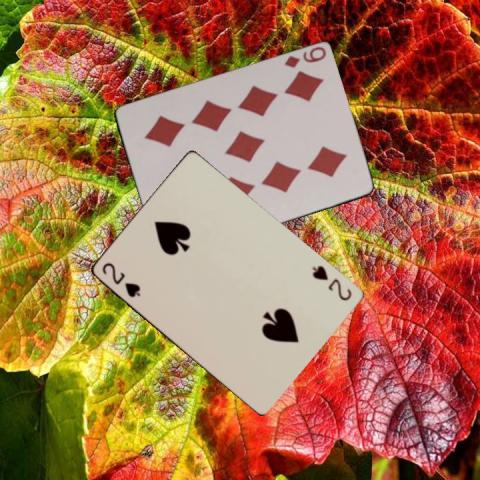2s: (309, 262, 352, 303), (99, 260, 142, 300)
9d: (281, 44, 327, 70)
